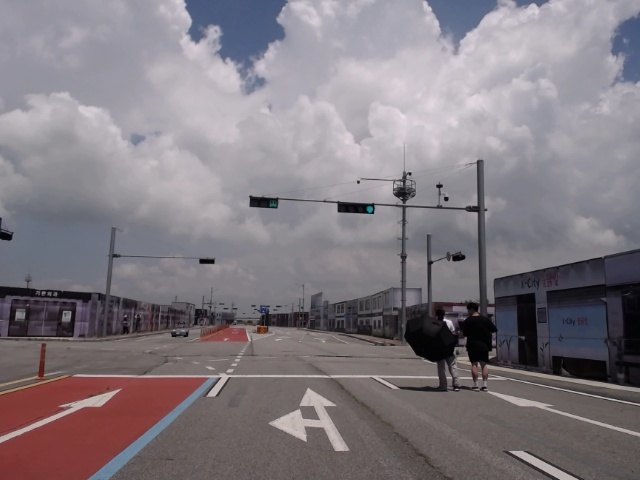straight_green_4: (337, 202, 376, 215)
